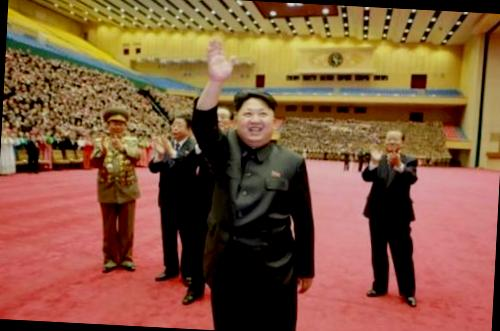no_helmet: (228, 84, 282, 146), (207, 104, 236, 140), (164, 113, 195, 145), (102, 106, 131, 140), (382, 124, 409, 155)
